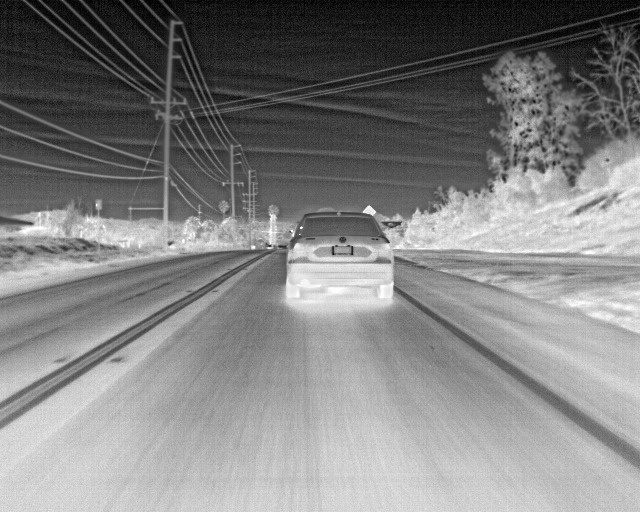vehicle: (287, 211, 395, 303)
